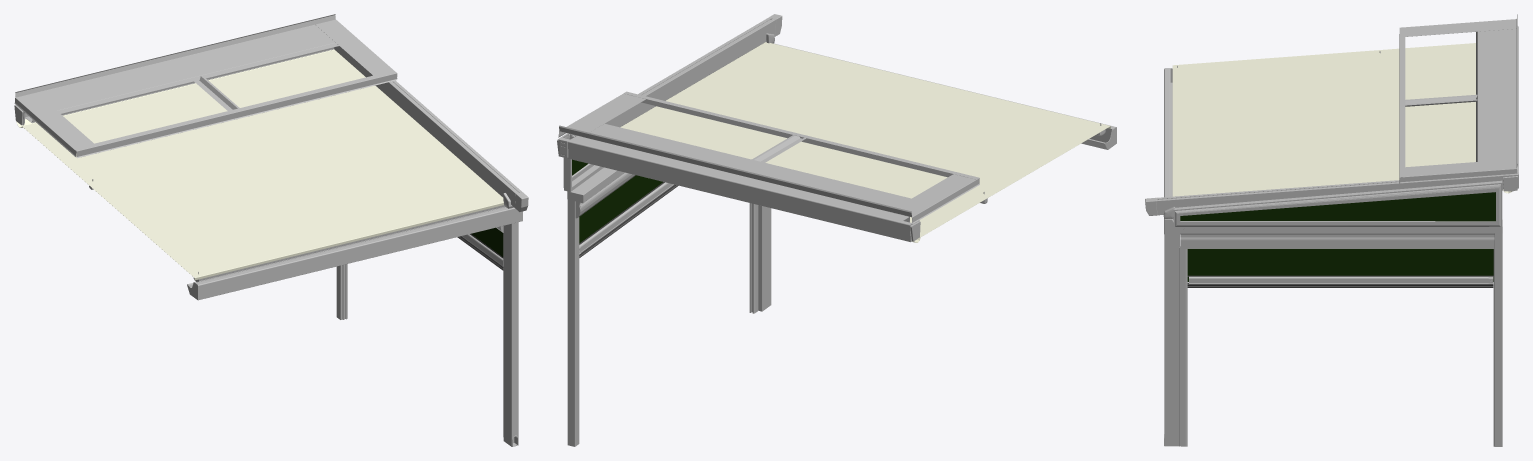
The model's file is flag4.fbx.
3 renders of one model, left to right at view 1: azimuth 30°, elevation 25°; view 2: azimuth 150°, elevation 25°; view 3: azimuth 270°, elevation 25°, orthographic. The views are drawn at different scales.
Visible parts, largest first — view 1: Telo, Tettuccio, Trave, Guida, Montante, Skipper, Trave_Posteriore, Frangivento_Iniziale_Finale, Pilastrino_intermedio; view 2: Telo, Tettuccio, Trave_Posteriore, Skipper, Guida, Pilastrino_intermedio, Montante, Trave_Laterale, Timpano, Trave; view 3: Telo, Skipper, Timpano, Tettuccio, Guida, Montante, Trave_Laterale, Pilastrino_intermedio, Trave.
Boxes of the visible parts, left/top/right/bottom form: Telo: left=16, top=49, right=503, bottom=280; Tettuccio: left=14, top=14, right=397, bottom=158; Trave: left=187, top=206, right=522, bottom=300; Guida: left=334, top=46, right=528, bottom=212; Montante: left=503, top=222, right=518, bottom=446; Skipper: left=342, top=226, right=503, bottom=436; Trave_Posteriore: left=14, top=47, right=334, bottom=125; Frangivento_Iniziale_Finale: left=193, top=205, right=504, bottom=281; Pilastrino_intermedio: left=336, top=264, right=347, bottom=319; Telo: left=620, top=42, right=1110, bottom=242; Tettuccio: left=558, top=91, right=979, bottom=223; Trave_Posteriore: left=558, top=133, right=920, bottom=242; Skipper: left=575, top=172, right=758, bottom=313; Guida: left=564, top=14, right=782, bottom=139; Pilastrino_intermedio: left=567, top=199, right=579, bottom=446; Montante: left=758, top=205, right=771, bottom=311; Trave_Laterale: left=567, top=167, right=624, bottom=203; Timpano: left=563, top=157, right=603, bottom=191; Trave: left=774, top=43, right=1116, bottom=149; Telo: left=1172, top=43, right=1511, bottom=196; Skipper: left=1179, top=233, right=1494, bottom=446; Timpano: left=1173, top=180, right=1502, bottom=227; Tettuccio: left=1399, top=14, right=1517, bottom=183; Guida: left=1145, top=176, right=1503, bottom=215; Montante: left=1164, top=234, right=1179, bottom=446; Trave_Laterale: left=1181, top=220, right=1502, bottom=233; Pilastrino_intermedio: left=1494, top=233, right=1502, bottom=446; Trave: left=1164, top=68, right=1184, bottom=234.
Size of the model in its own units: 307 by 265 by 317.
